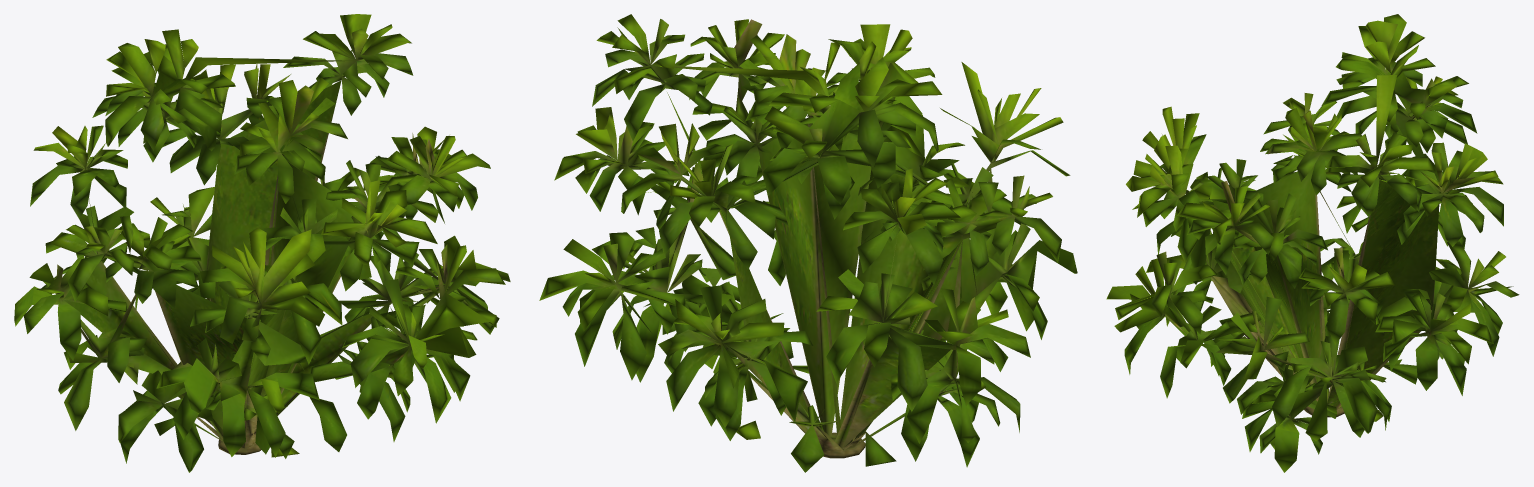
File: VEG_ArbustoTropical_02_LOD0.fbx
The picture shows the model from 3 angles, left to right: view 1: azimuth 30°, elevation 25°; view 2: azimuth 150°, elevation 25°; view 3: azimuth 270°, elevation 25°; orthographic projection. The views are drawn at different scales.
Visible parts, largest first — view 1: VEG_ArbustoTropical_02_Mesh000; view 2: VEG_ArbustoTropical_02_Mesh000; view 3: VEG_ArbustoTropical_02_Mesh000.
Boxes of the visible parts, x1,y1,x2,y2 form: VEG_ArbustoTropical_02_Mesh000: (14, 14, 510, 472); VEG_ArbustoTropical_02_Mesh000: (539, 14, 1077, 472); VEG_ArbustoTropical_02_Mesh000: (1106, 14, 1519, 472).
Bounding box in the file's own units: 1.57 × 1.4 × 1.44.
